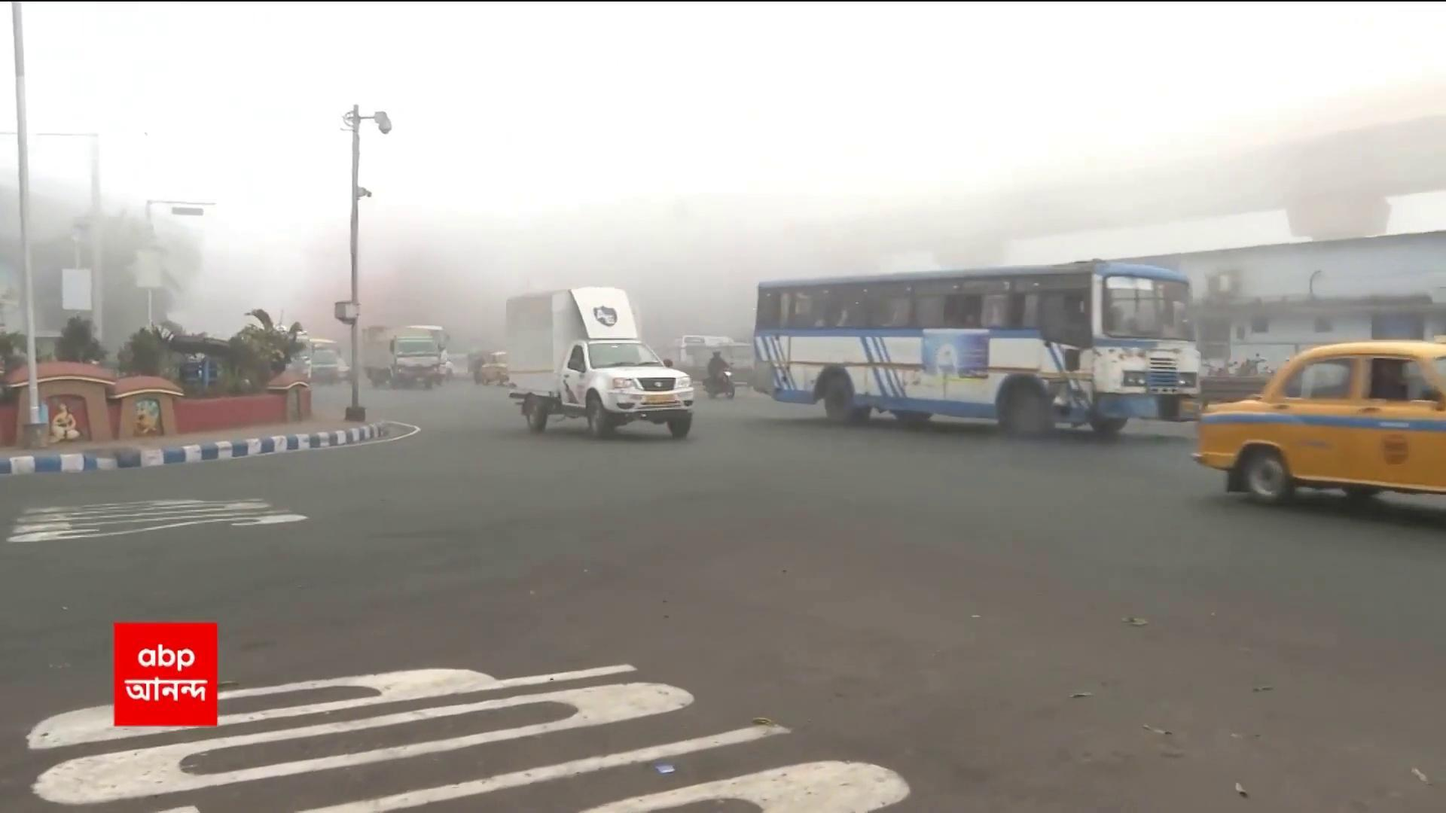Bus: (759, 258, 1209, 454)
Car: (1194, 328, 1446, 497)
Truck: (497, 280, 705, 438), (367, 317, 453, 388)
